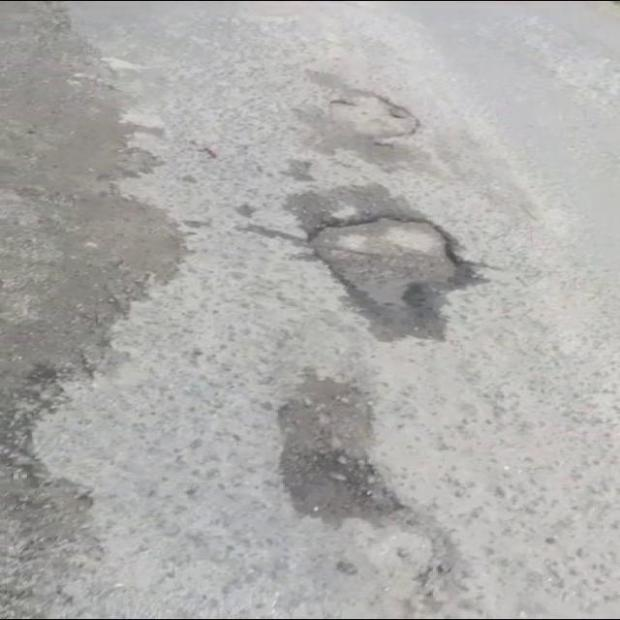lubang: (0, 3, 182, 471), (309, 216, 481, 339), (278, 373, 404, 520), (315, 74, 432, 170)
